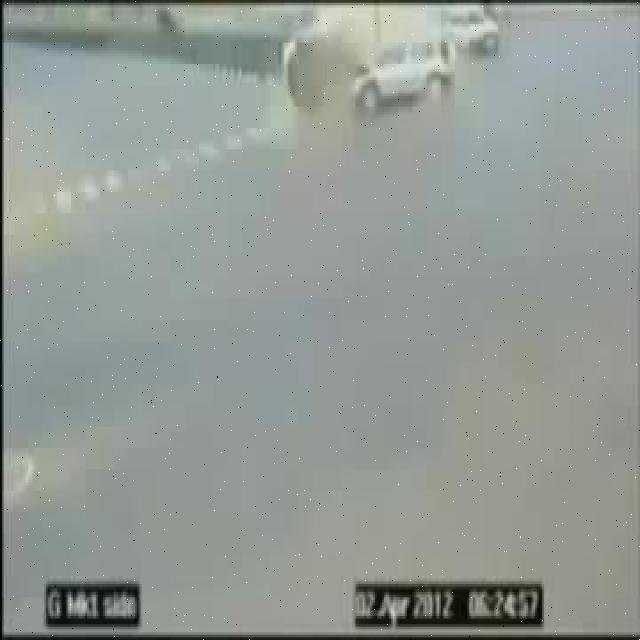severe: (279, 21, 459, 112)
